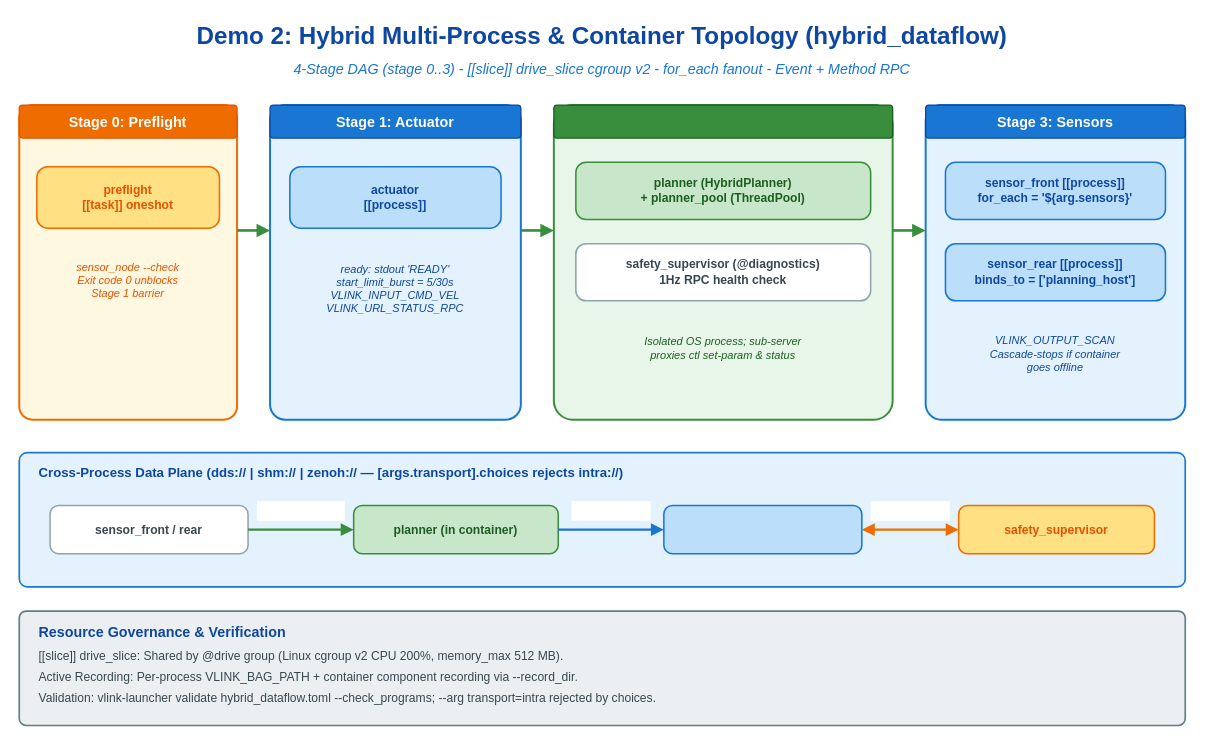
Image size: 1206x745. Some labels were removed from this diagram. Each missing label, with the box of its shape:
actuator (process): (663, 504, 862, 554)
cmd_vel: (571, 501, 650, 520)
scan (Event): (256, 501, 344, 520)
Stage 2: planning_host [[container]]: (553, 104, 893, 138)
status_rpc: (870, 501, 949, 520)
